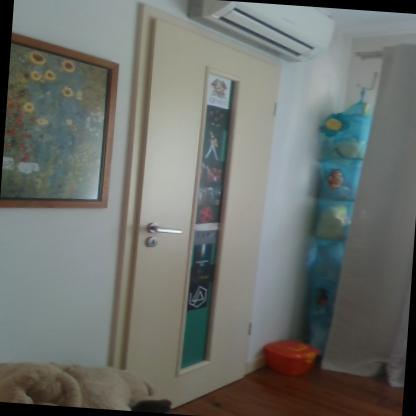closed: (110, 25, 290, 387)
